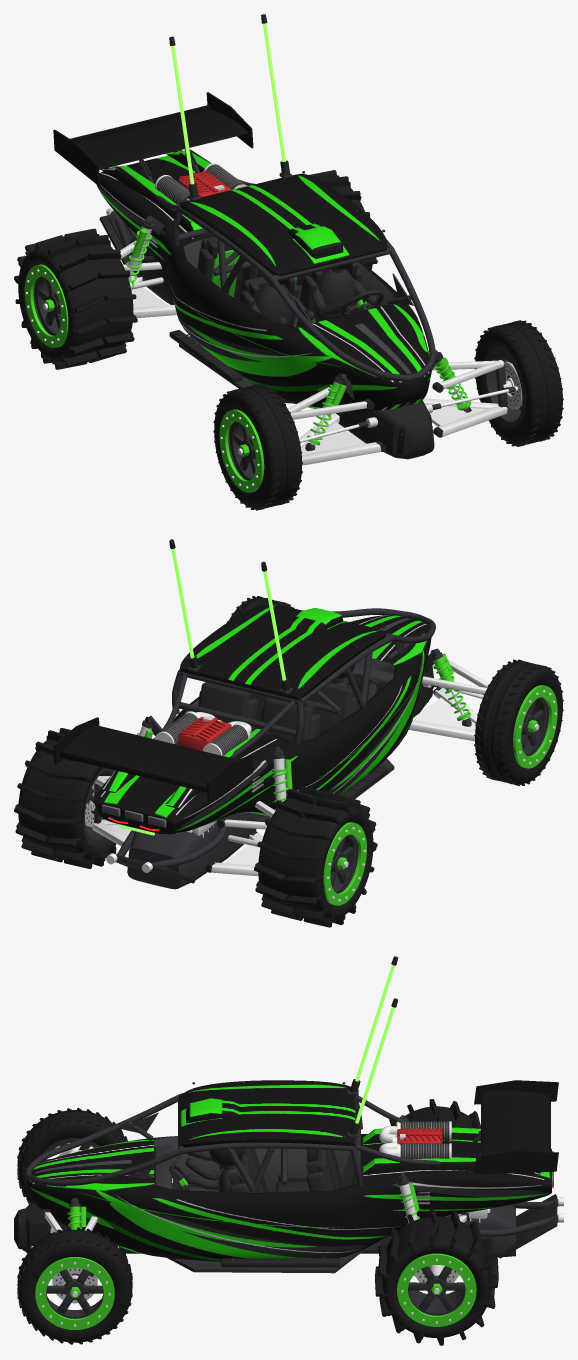
Rendered from sandrail.glb.
3 renders of one model, top to bottom at view 1: azimuth 30°, elevation 25°; view 2: azimuth 150°, elevation 25°; view 3: azimuth 270°, elevation 25°, orthographic. The views are drawn at different scales.
Parts seen in each view (by area): view 1: Chassis, Wheel_RR, Wheel_FR, Wheel_FL, ArmLower_FR, ArmLower_FL, ArmUpper_FR, ArmLower_RR, ArmUpper_FL, Wheel_RL; view 2: Chassis, Wheel_RR, Wheel_FR, Wheel_RL, ArmLower_FR, ArmLower_RR, ArmUpper_FR, ShockBody_RR, ArmLower_RL, ArmUpper_RR; view 3: Chassis, Wheel_RL, Wheel_FL, Wheel_FR, Wheel_RR, ShockBody_RL.
Boxes of the visible parts, <box> form: Chassis: <box>53,14,435,459</box>; Wheel_RR: <box>14,228,137,369</box>; Wheel_FR: <box>213,384,302,510</box>; Wheel_FL: <box>474,320,563,446</box>; ArmLower_FR: <box>299,413,386,465</box>; ArmLower_FL: <box>422,398,507,437</box>; ArmUpper_FR: <box>288,387,374,419</box>; ArmLower_RR: <box>129,273,176,317</box>; ArmUpper_FL: <box>432,360,504,392</box>; Wheel_RL: <box>309,170,377,269</box>; Chassis: <box>53,539,439,889</box>; Wheel_RR: <box>254,786,377,927</box>; Wheel_FR: <box>474,659,563,785</box>; Wheel_RL: <box>14,728,116,868</box>; ArmLower_FR: <box>409,687,477,741</box>; ArmLower_RR: <box>205,831,262,876</box>; ArmUpper_FR: <box>421,659,489,694</box>; ShockBody_RR: <box>271,749,292,801</box>; ArmLower_RL: <box>92,819,131,850</box>; ArmUpper_RR: <box>217,801,275,829</box>; Chassis: <box>14,956,563,1273</box>; Wheel_RL: <box>375,1208,498,1345</box>; Wheel_FL: <box>17,1227,132,1344</box>; Wheel_FR: <box>17,1108,127,1204</box>; Wheel_RR: <box>389,1099,480,1128</box>; ShockBody_RL: <box>398,1175,419,1223</box>.
Bounding box in the file's own units: 2.9 × 2.94 × 4.87.
Materials: 25 (2 with a texture image).
